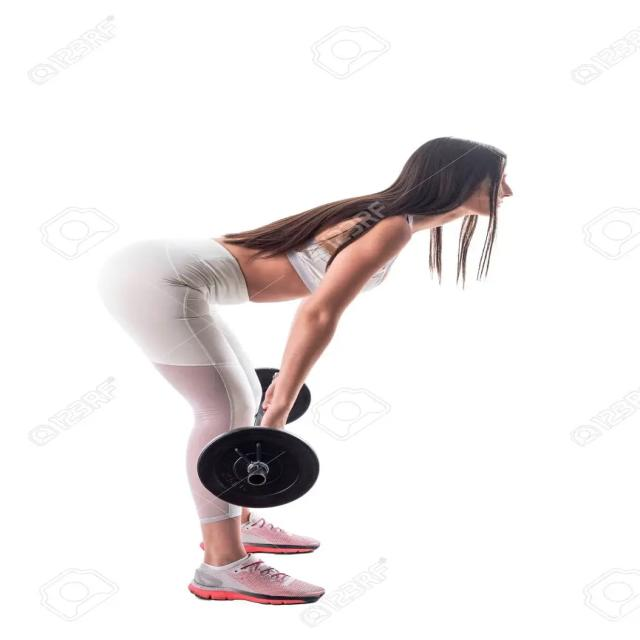barbell_plate_side: (195, 367, 226, 508), (289, 367, 320, 508)
